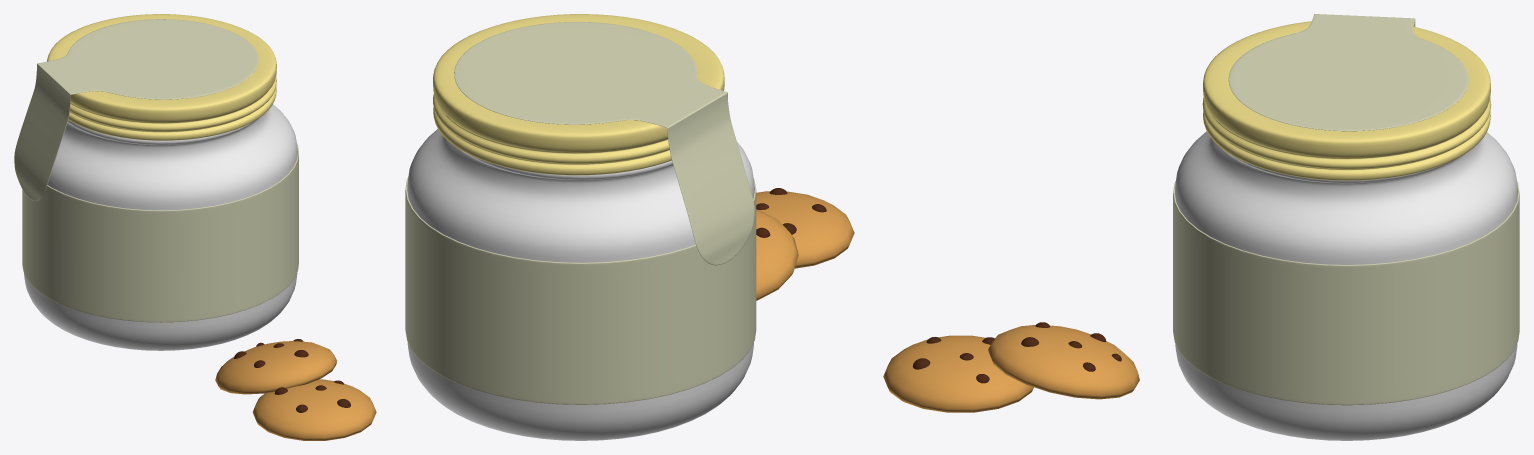
File: uploads_files_3571321_jar_cookie.fbx
3 views of the same model, side by side, from view 1: azimuth 30°, elevation 25°; view 2: azimuth 150°, elevation 25°; view 3: azimuth 270°, elevation 25° (orthographic). The views are drawn at different scales.
Visible parts, largest first — view 1: package_001.001, jar_body_001.001, jar_cap_001.001, cookie.012, cookie.011, choco_chip.012; view 2: package_001.001, jar_body_001.001, jar_cap_001.001, cookie.012, cookie.011; view 3: package_001.001, jar_body_001.001, jar_cap_001.001, cookie.011, cookie.012.
Part boxes in pixels (<box>): package_001.001: <box>14,19,298,322</box>; jar_body_001.001: <box>24,104,297,350</box>; jar_cap_001.001: <box>47,14,276,140</box>; cookie.012: <box>252,379,376,440</box>; cookie.011: <box>215,341,336,394</box>; choco_chip.012: <box>274,380,350,412</box>; package_001.001: <box>405,22,756,404</box>; jar_body_001.001: <box>407,129,754,440</box>; jar_cap_001.001: <box>433,14,724,175</box>; cookie.012: <box>756,191,854,268</box>; cookie.011: <box>756,209,798,300</box>; package_001.001: <box>1173,14,1519,405</box>; jar_body_001.001: <box>1175,131,1517,440</box>; jar_cap_001.001: <box>1202,21,1491,180</box>; cookie.011: <box>988,325,1139,399</box>; cookie.012: <box>883,335,1033,412</box>.
Bounding box in the file's own units: 424 × 406 × 757.
